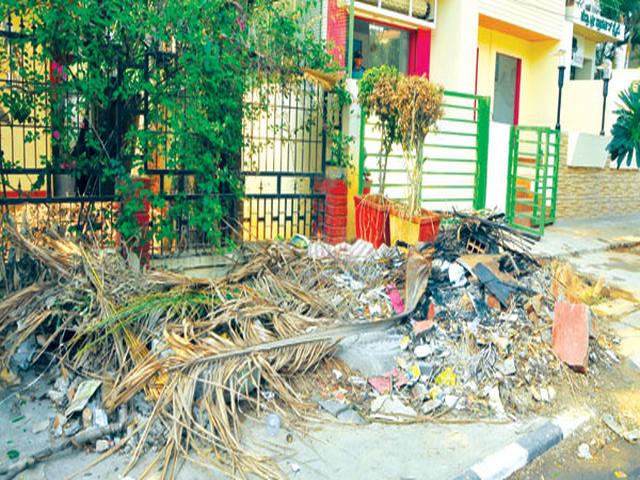garbage: (19, 241, 344, 419), (400, 259, 567, 377)
